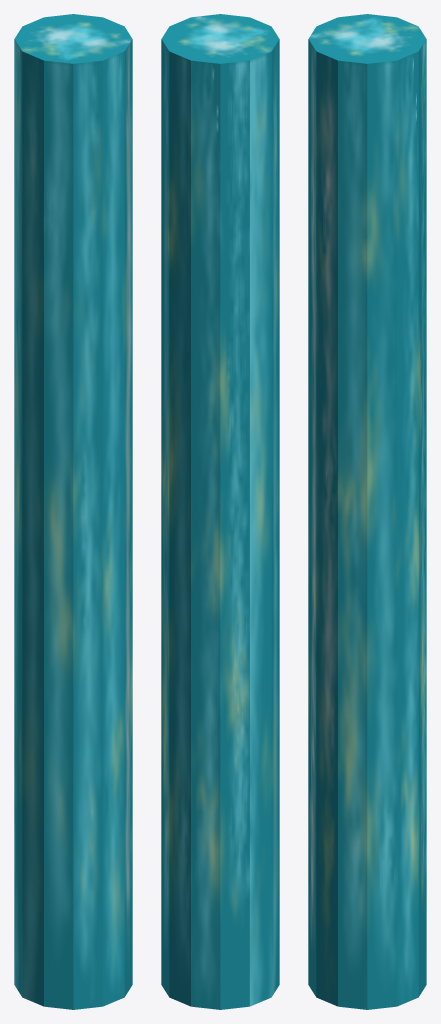
The model's file is uranium.glb.
The picture shows the model from 3 angles, left to right: view 1: azimuth 90°, elevation 25°; view 2: azimuth 210°, elevation 25°; view 3: azimuth 270°, elevation 25°; orthographic projection.
Visible parts, largest first — view 1: Cylinder; view 2: Cylinder; view 3: Cylinder.
Part boxes in pixels (x1=…): Cylinder: x1=14, y1=14, x2=132, y2=1009; Cylinder: x1=161, y1=14, x2=279, y2=1009; Cylinder: x1=308, y1=14, x2=426, y2=1009.
Size of the model in its own units: 0.1016 by 0.8982 by 0.1016.
Materials: 1 (1 with a texture image).
